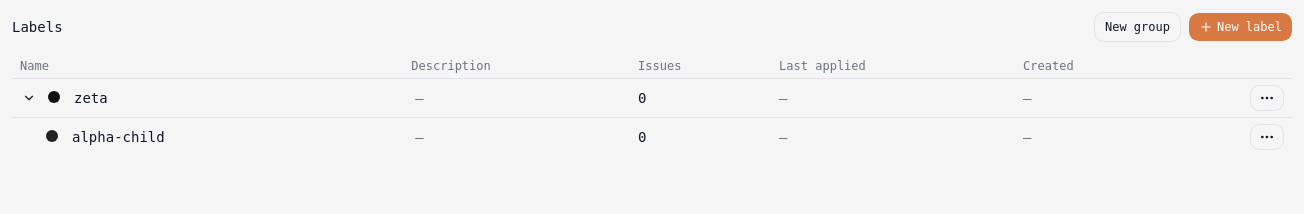
Test: labels settings › deletes a label and refreshes so children are promoted
Check: the text "zeta" is shown, box [74, 90, 108, 106]
Click the button named "Actions for zeta" at (1267, 98), box [1250, 85, 1284, 111]
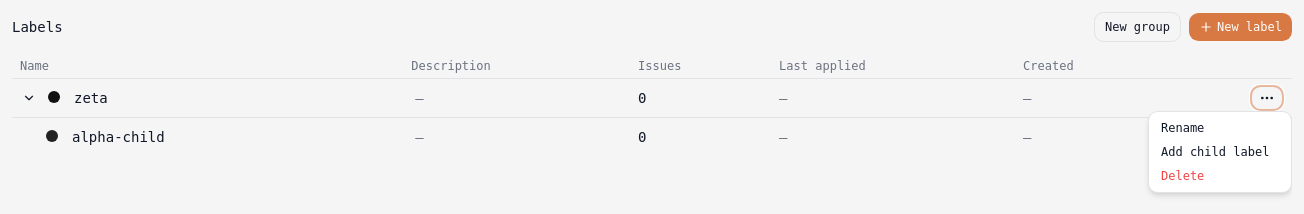
Click the menu item "Delete" at (1220, 176), box [1153, 164, 1287, 188]
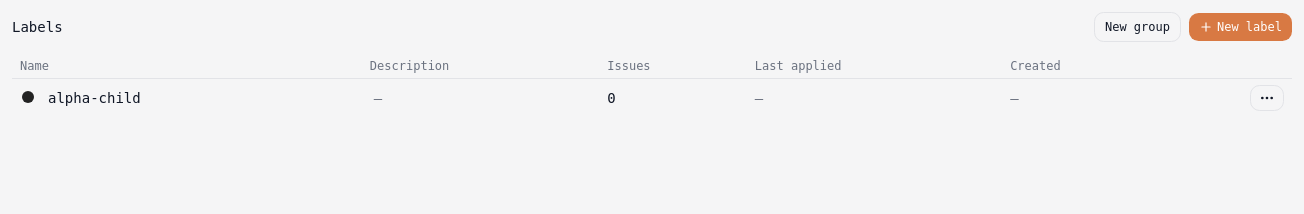
Check: the button "zeta" is gone
Check: the text "alpha-child" is shown, box [48, 90, 141, 106]
